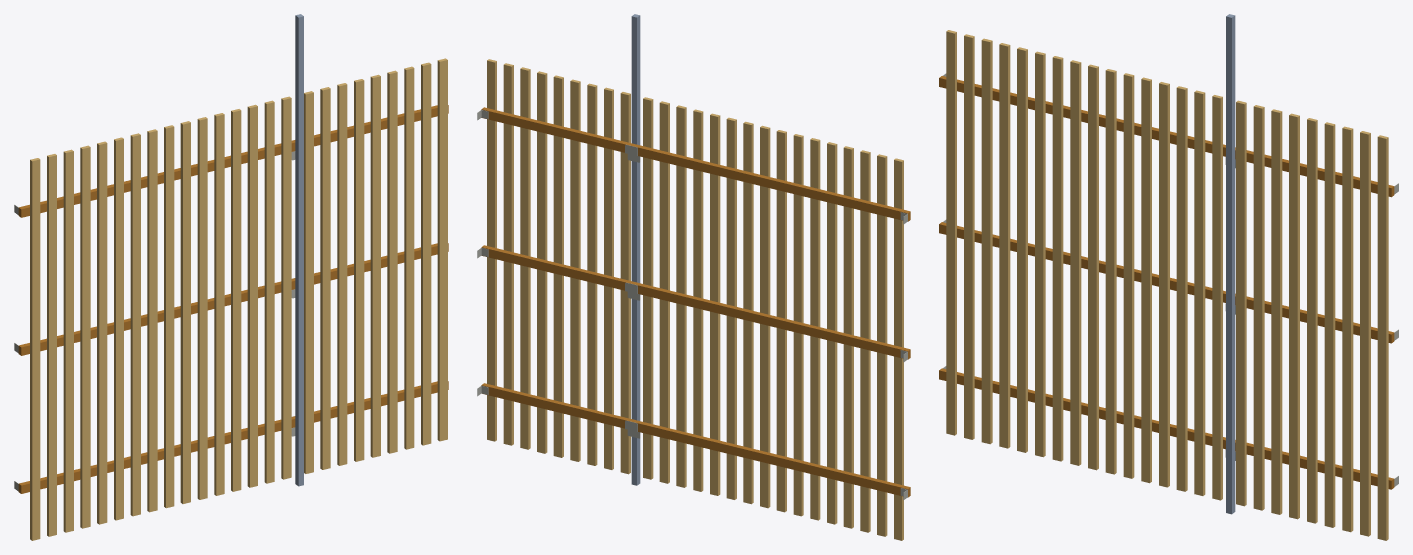
File: ks-studio-2026-05-07-1113.glb
3 views of the same model, side by side, from view 1: azimuth 30°, elevation 25°; view 2: azimuth 150°, elevation 25°; view 3: azimuth 330°, elevation 25° (orthographic). The views are drawn at different scales.
Visible parts, largest first — view 1: vertical-slat-7 (×2), vertical-slat-4 (×2), vertical-slat-8 (×2), vertical-slat-3 (×2), vertical-slat-5 (×2), vertical-slat-9 (×2), vertical-slat-2 (×2), vertical-slat-6 (×2), vertical-slat-1 (×2), ks-studio-project-3d, vertical-slat-11, vertical-slat-16 (+8 smaller); view 2: vertical-slat-4 (×2), vertical-slat-3 (×2), vertical-slat-7 (×2), vertical-slat-5 (×2), vertical-slat-6 (×2), vertical-slat-8 (×2), vertical-slat-2 (×2), vertical-slat-9 (×2), vertical-slat-1 (×2), middle-crosslat (×2), top-crosslat (×2), bottom-crosslat (×2) (+8 smaller); view 3: vertical-slat-7 (×2), vertical-slat-3 (×2), vertical-slat-9 (×2), vertical-slat-2 (×2), vertical-slat-4 (×2), vertical-slat-6 (×2), vertical-slat-8 (×2), vertical-slat-5 (×2), vertical-slat-1 (×2), ks-studio-project-3d, vertical-slat-14, vertical-slat-10 (+8 smaller).
Part boxes in pixels (x1,y1,x2,y2): vertical-slat-7 (×2): [130, 66, 414, 516]; vertical-slat-4 (×2): [80, 79, 364, 528]; vertical-slat-8 (×2): [147, 62, 431, 512]; vertical-slat-3 (×2): [63, 83, 347, 532]; vertical-slat-5 (×2): [97, 74, 380, 524]; vertical-slat-9 (×2): [164, 58, 447, 508]; vertical-slat-2 (×2): [47, 87, 330, 536]; vertical-slat-6 (×2): [114, 70, 397, 520]; vertical-slat-1 (×2): [30, 91, 313, 540]; ks-studio-project-3d: [295, 14, 303, 486]; vertical-slat-11: [197, 117, 207, 499]; vertical-slat-16: [281, 96, 291, 479]; vertical-slat-4 (×2): [570, 79, 853, 528]; vertical-slat-3 (×2): [587, 83, 870, 532]; vertical-slat-7 (×2): [520, 67, 803, 516]; vertical-slat-5 (×2): [553, 75, 837, 524]; vertical-slat-6 (×2): [537, 71, 820, 520]; vertical-slat-8 (×2): [503, 63, 786, 512]; vertical-slat-2 (×2): [604, 87, 887, 536]; vertical-slat-9 (×2): [487, 59, 770, 508]; vertical-slat-1 (×2): [620, 92, 903, 540]; middle-crosslat (×2): [481, 245, 910, 359]; top-crosslat (×2): [481, 107, 910, 221]; bottom-crosslat (×2): [481, 383, 910, 497]; vertical-slat-7 (×2): [1052, 56, 1353, 532]; vertical-slat-3 (×2): [981, 38, 1282, 514]; vertical-slat-9 (×2): [1088, 64, 1388, 540]; vertical-slat-2 (×2): [964, 34, 1264, 510]; vertical-slat-4 (×2): [999, 43, 1299, 519]; vertical-slat-6 (×2): [1035, 51, 1335, 527]; vertical-slat-8 (×2): [1070, 60, 1370, 536]; vertical-slat-5 (×2): [1017, 47, 1317, 523]; vertical-slat-1 (×2): [946, 30, 1246, 506]; ks-studio-project-3d: [1226, 14, 1235, 514]; vertical-slat-14: [1176, 86, 1187, 491]; vertical-slat-10: [1105, 69, 1116, 474].
Bounding box in the file's own units: 2355 × 2470 × 96.
